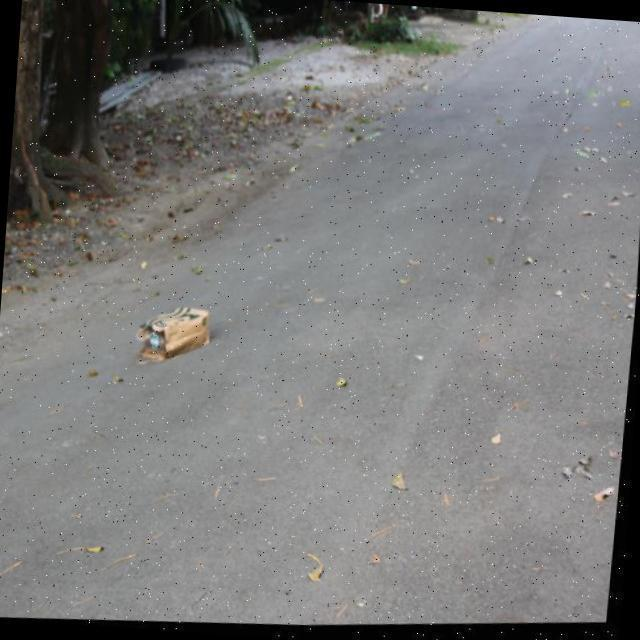Paper_Bag: (134, 302, 214, 370)
